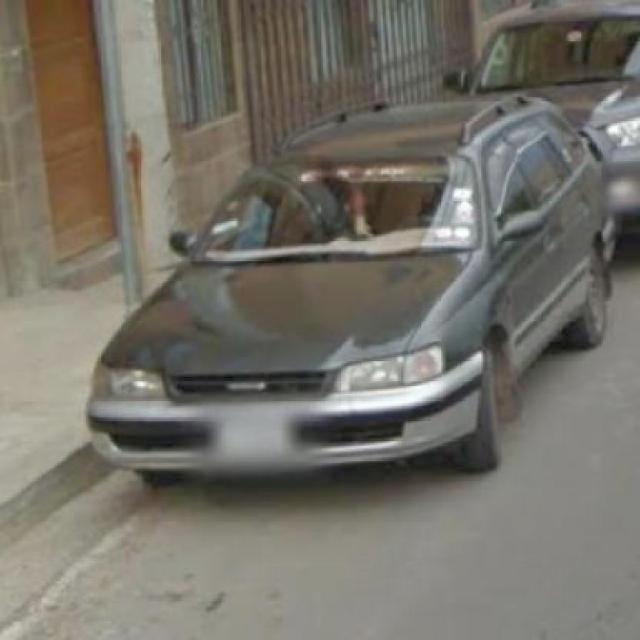car: (98, 112, 594, 486)
